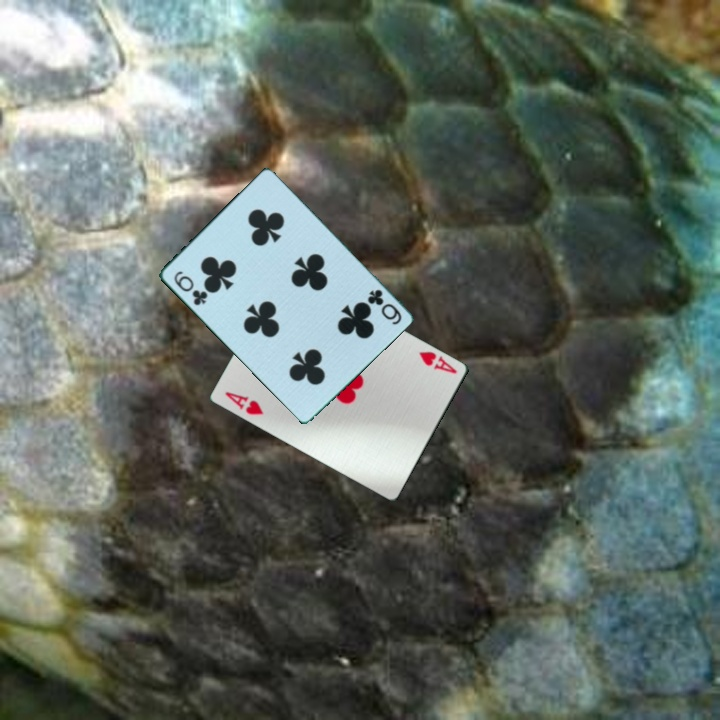6c: (364, 285, 404, 328), (170, 267, 210, 309)
Ah: (222, 388, 267, 418), (416, 347, 461, 376)
